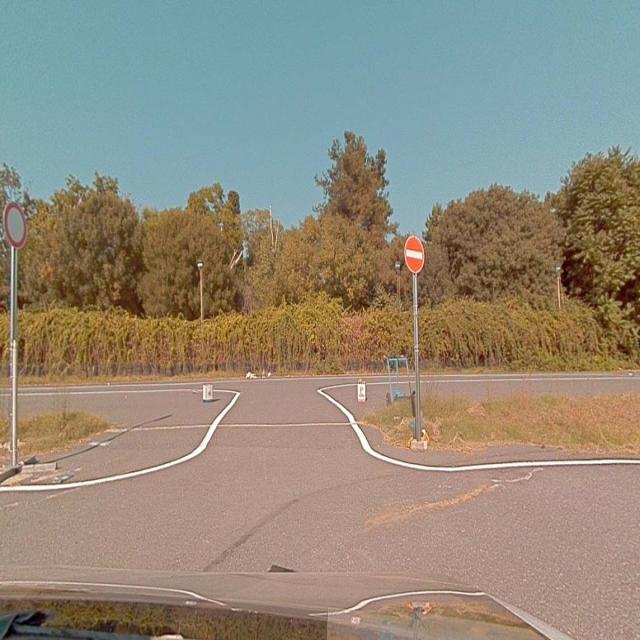girisyok: (406, 236, 424, 272)
